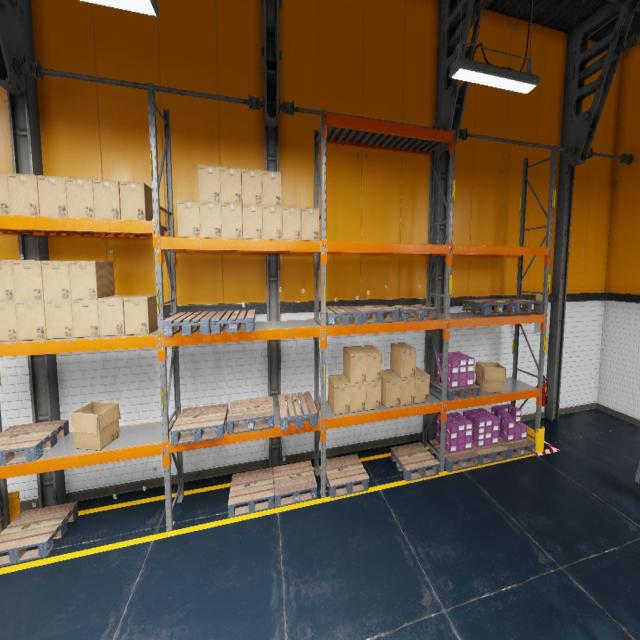box: (69, 402, 120, 451), (69, 261, 115, 299), (98, 295, 135, 336), (7, 173, 40, 216), (124, 294, 158, 335), (119, 181, 153, 220), (12, 260, 44, 301), (37, 175, 68, 217), (15, 301, 47, 340), (41, 260, 71, 300), (44, 300, 74, 339), (66, 177, 94, 218), (92, 179, 120, 219), (71, 299, 100, 337), (390, 370, 416, 406), (390, 342, 416, 378), (475, 362, 506, 392), (328, 374, 350, 415), (358, 345, 382, 382), (343, 374, 366, 412), (343, 346, 366, 383), (198, 165, 221, 202), (177, 200, 200, 237), (220, 167, 242, 205), (199, 202, 222, 238), (221, 203, 243, 238), (381, 369, 401, 407), (241, 169, 262, 205), (242, 204, 263, 239), (0, 301, 18, 341), (262, 171, 282, 206), (262, 206, 282, 240), (282, 206, 301, 240), (0, 260, 15, 301), (301, 208, 319, 240), (415, 367, 429, 403), (366, 381, 381, 410), (0, 172, 10, 214)
pallets: (0, 502, 78, 566), (0, 420, 69, 466), (170, 403, 228, 445), (228, 467, 274, 517), (273, 460, 317, 508), (390, 442, 440, 481), (326, 454, 369, 498), (226, 396, 274, 434), (429, 439, 479, 472), (278, 391, 317, 431), (163, 311, 217, 337), (430, 377, 480, 400), (211, 310, 255, 334), (351, 305, 399, 323), (462, 299, 515, 315), (320, 306, 362, 326), (472, 442, 508, 465), (499, 436, 535, 458), (390, 305, 438, 321), (492, 298, 543, 313)
